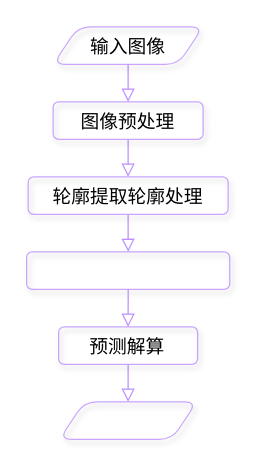
The diagram is 260 pixels wide and 470 high, and some of its shapes have lost their labels. Each missing label, with the centre of its shape:
"R标与装甲板定位" goes at [128,272].
"通信" goes at [128,422].
